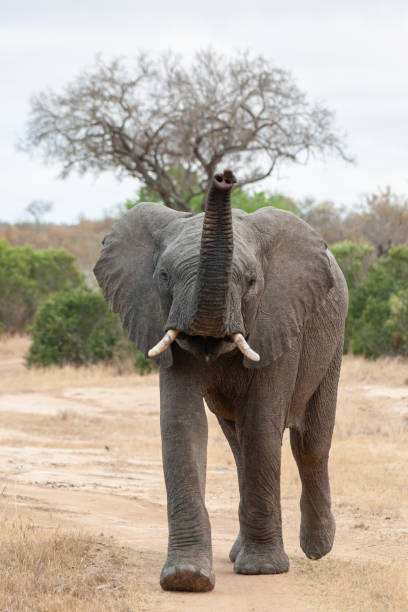africanelephant: (144, 188, 285, 382)
